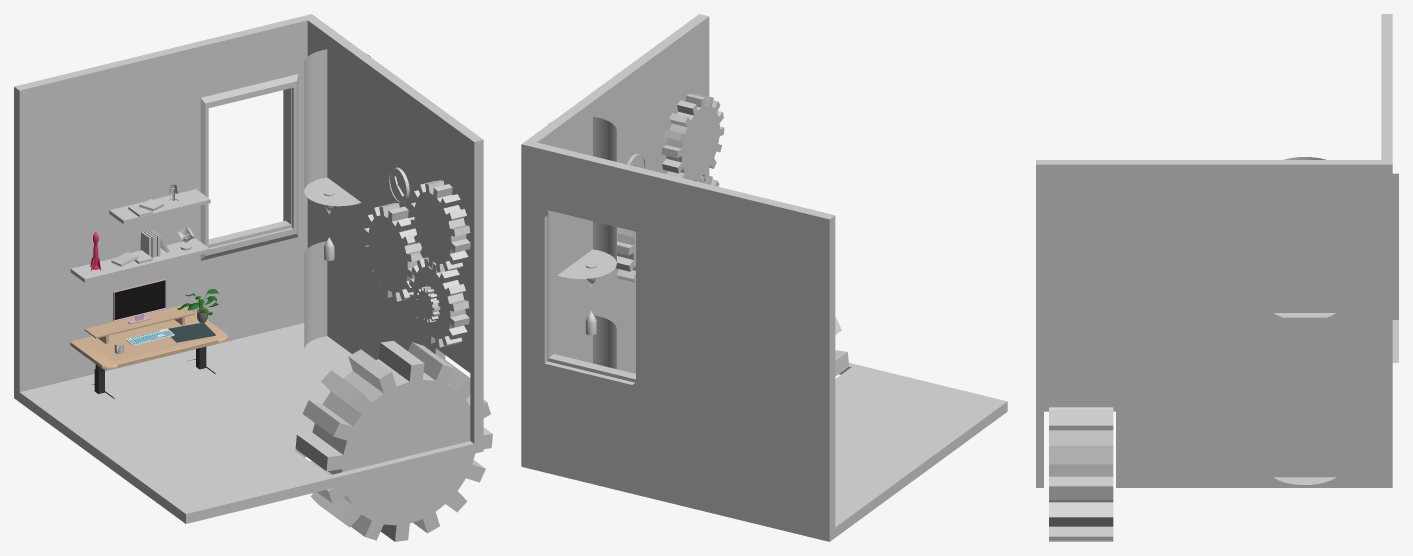
The model's file is portfolio-room.glb.
3 views of the same model, side by side, from view 1: azimuth 30°, elevation 25°; view 2: azimuth 150°, elevation 25°; view 3: azimuth 270°, elevation 25° (orthographic). The views are drawn at different scales.
Visible parts, largest first — view 1: RoomWalls, Cylinder.007, Cylinder.008, Plane, Cylinder.006, Cylinder.003, Cube, Cylinder.004, Cube.053, screen.001, Cube.004, Cube.059 (+3 smaller); view 2: RoomWalls, Cylinder.006, Cylinder.008, Plane, Cylinder.003; view 3: RoomWalls, Cylinder.007, Cylinder.008, Plane.
Boxes of the visible parts, bbox=[...] form: RoomWalls: bbox=[14, 14, 483, 523]; Cylinder.007: bbox=[295, 340, 492, 541]; Cylinder.008: bbox=[304, 49, 370, 364]; Plane: bbox=[200, 74, 298, 260]; Cylinder.006: bbox=[410, 180, 470, 272]; Cylinder.003: bbox=[363, 202, 427, 301]; Cube: bbox=[70, 311, 227, 369]; Cylinder.004: bbox=[409, 257, 469, 347]; Cube.053: bbox=[70, 238, 209, 282]; screen.001: bbox=[114, 280, 165, 319]; Cube.004: bbox=[84, 305, 194, 343]; Cube.059: bbox=[109, 189, 210, 224]; RoomWalls: bbox=[521, 14, 1007, 541]; Cylinder.006: bbox=[661, 93, 724, 181]; Cylinder.008: bbox=[548, 116, 616, 369]; Plane: bbox=[544, 211, 634, 384]; Cylinder.003: bbox=[615, 227, 635, 285]; RoomWalls: bbox=[1036, 14, 1392, 487]; Cylinder.007: bbox=[1049, 407, 1113, 541]; Cylinder.008: bbox=[1274, 157, 1335, 484]; Plane: bbox=[1381, 159, 1398, 362].
Size of the model in its own units: 10.31 by 12.21 by 9.97.
